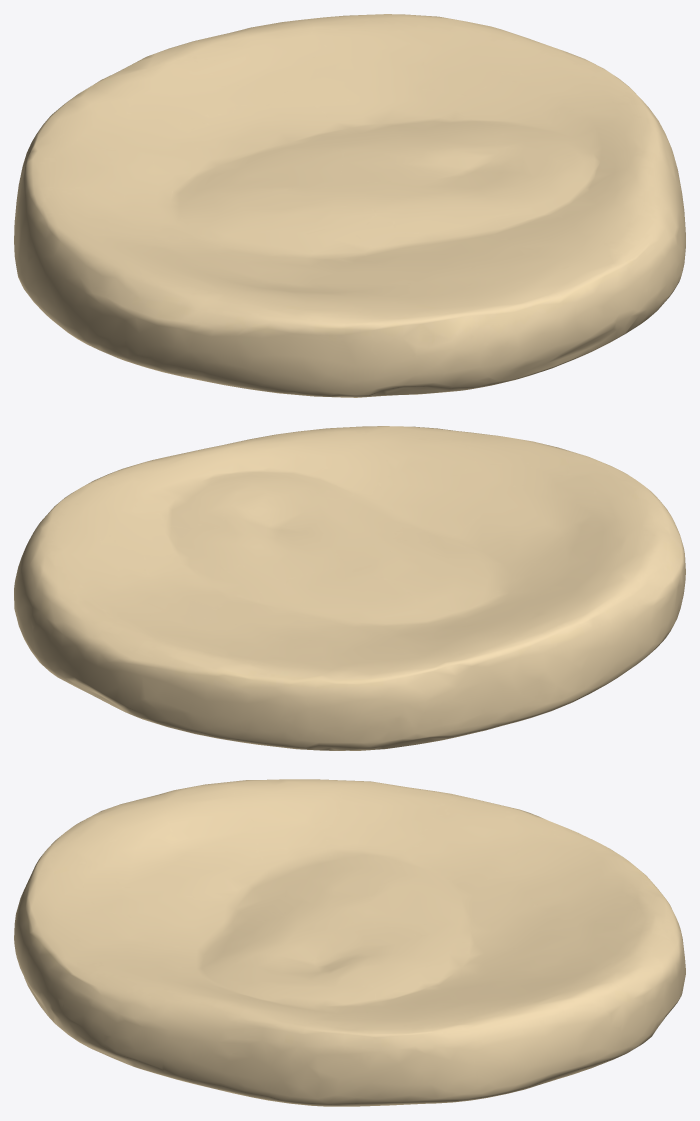
Rendered from shell+meat+fillet.obj.
3 renders of one model, top to bottom at view 1: azimuth 30°, elevation 25°; view 2: azimuth 150°, elevation 25°; view 3: azimuth 270°, elevation 25°, orthographic. The views are drawn at different scales.
Parts seen in each view (by area): view 1: meshes[0]; view 2: meshes[0]; view 3: meshes[0].
Part boxes in pixels (bbox=[...]): meshes[0]: bbox=[14, 14, 685, 397]; meshes[0]: bbox=[14, 426, 685, 750]; meshes[0]: bbox=[14, 779, 685, 1106].
Size of the model in its own units: 0.9642 by 0.1615 by 1.
1 material, 1 textured.
